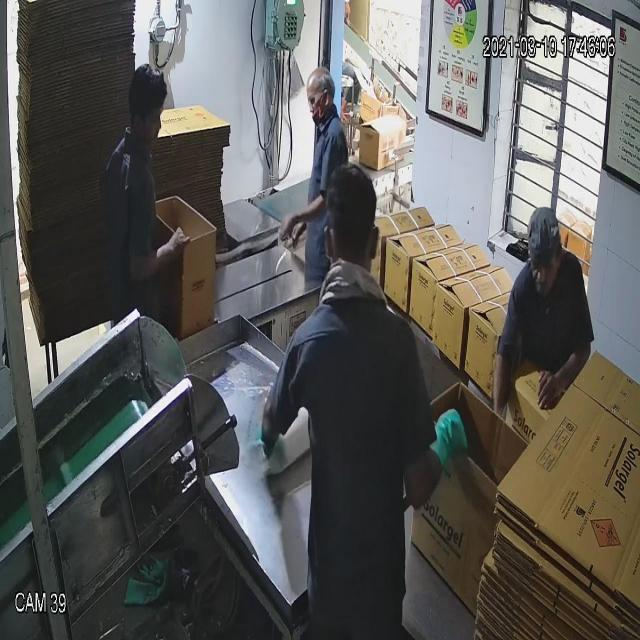No_Gloves: (34, 72, 568, 384)
